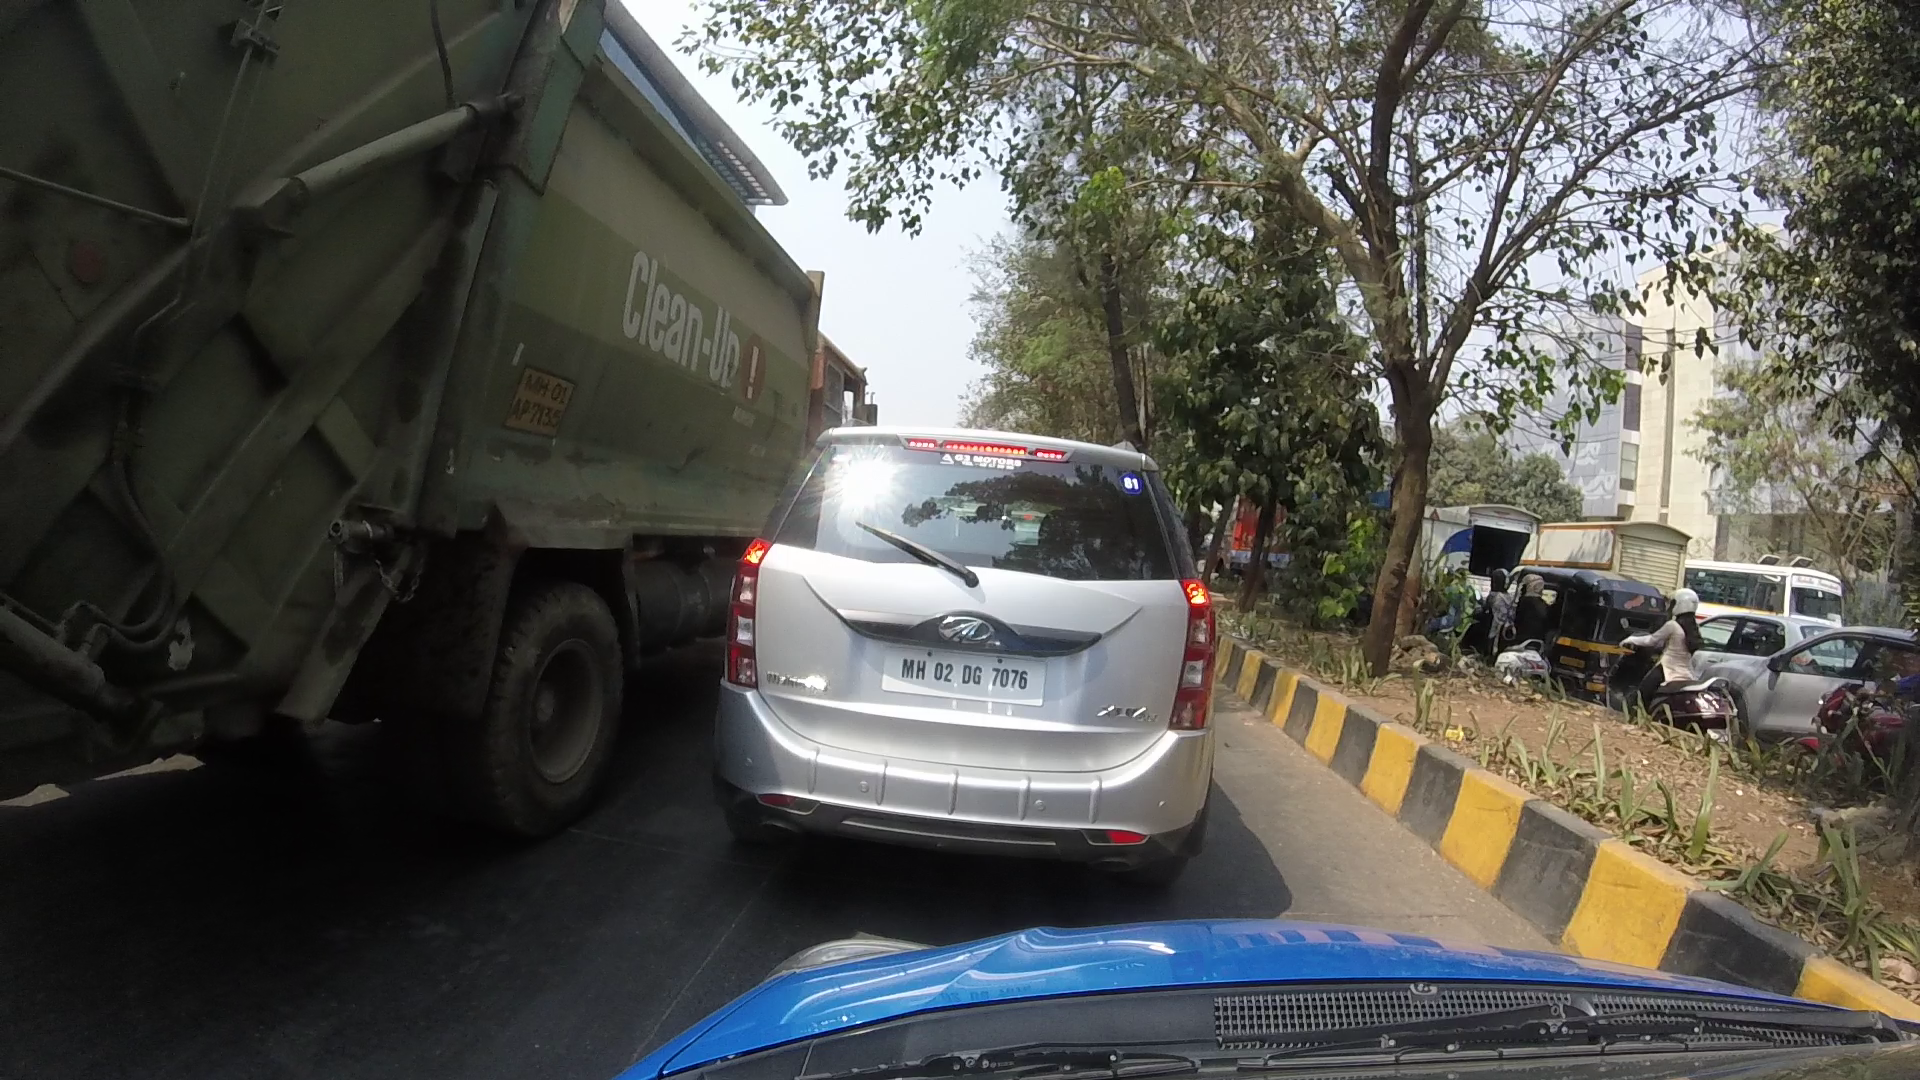car: (719, 425, 1222, 860)
rickshaw: (1511, 563, 1665, 692)
truck: (44, 22, 837, 833)
